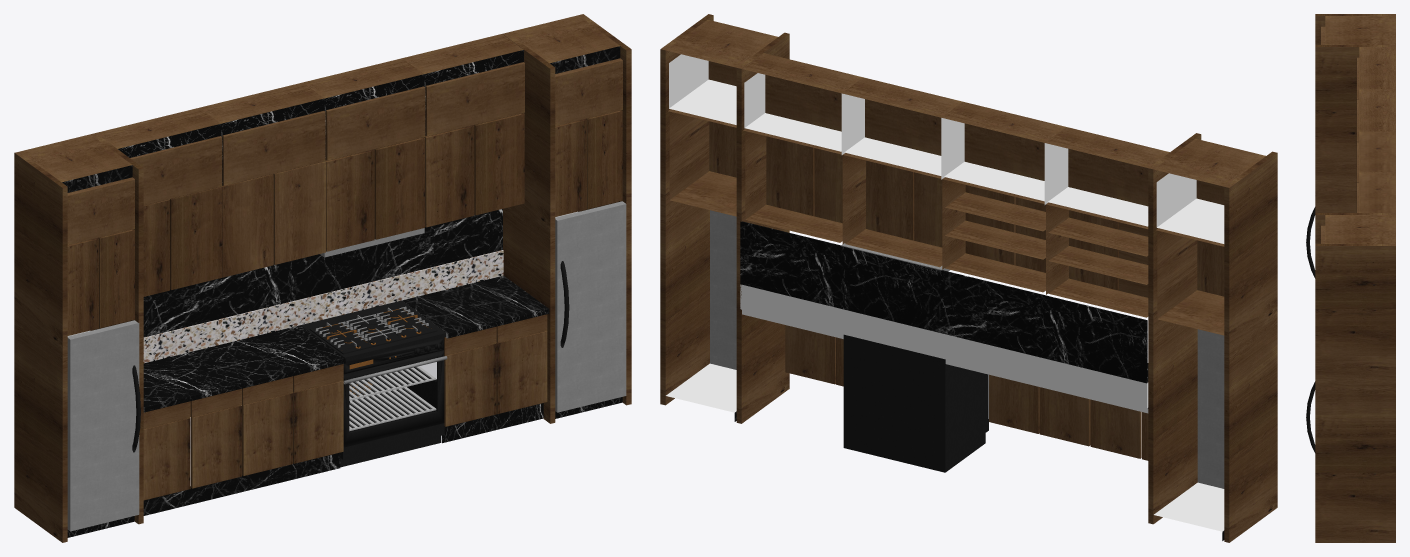
File: kitchen_2.gltf
The picture shows the model from 3 angles, left to right: view 1: azimuth 30°, elevation 25°; view 2: azimuth 150°, elevation 25°; view 3: azimuth 270°, elevation 25°; orthographic projection. The views are drawn at different scales.
Parts seen in each view (by area): view 1: k-Self.0073333; view 2: k-Self.0073333; view 3: k-Self.0073333.
Boxes of the visible parts, box(x1,y1,x2,y2) form: k-Self.0073333: box(14, 14, 631, 542); k-Self.0073333: box(660, 14, 1277, 542); k-Self.0073333: box(1306, 14, 1395, 542).
Bounding box in the file's own units: 3.63 × 2.16 × 0.5927.
Materials: 9 (7 with a texture image).
